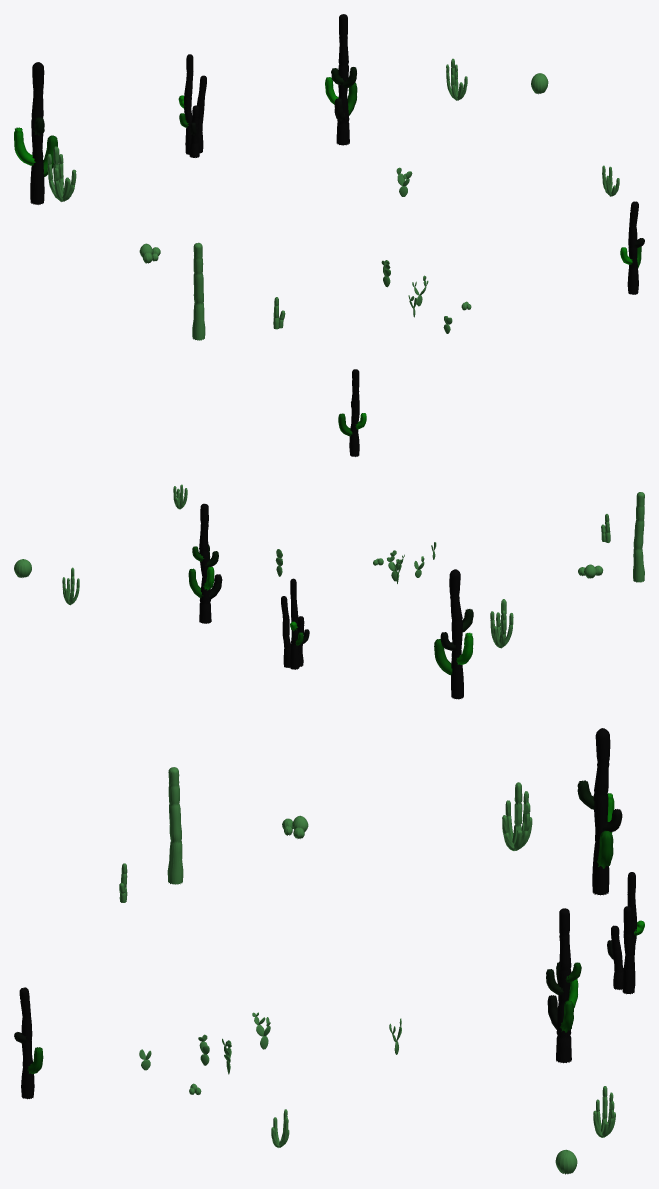
The model's file is cactuses.fbx.
3 views of the same model, one above another, from view 1: azimuth 30°, elevation 25°; view 2: azimuth 150°, elevation 25°; view 3: azimuth 270°, elevation 25° (orthographic). The views are drawn at different scales.
Visible parts, largest first — view 1: Cactus, Cactus13, Cactus2, Cactus15, Cactus16, Cactus11, Cactus5; view 2: Cactus, Cactus13, Cactus2, Cactus15, Cactus16, Cactus11; view 3: Cactus, Cactus13, Cactus2, Cactus15, Cactus16, Cactus11, Cactus5.
Part boxes in pixels (left/top/right/bottom): Cactus: left=14, top=62, right=57, bottom=204; Cactus13: left=325, top=14, right=357, bottom=145; Cactus2: left=178, top=54, right=206, bottom=157; Cactus15: left=620, top=201, right=644, bottom=294; Cactus16: left=192, top=242, right=205, bottom=340; Cactus11: left=47, top=146, right=76, bottom=201; Cactus5: left=446, top=58, right=467, bottom=100; Cactus: left=434, top=569, right=473, bottom=699; Cactus13: left=188, top=503, right=222, bottom=623; Cactus2: left=281, top=578, right=309, bottom=669; Cactus15: left=338, top=369, right=366, bottom=456; Cactus16: left=633, top=492, right=644, bottom=582; Cactus11: left=490, top=599, right=513, bottom=648; Cactus: left=577, top=728, right=622, bottom=895; Cactus13: left=546, top=908, right=581, bottom=1063; Cactus2: left=607, top=872, right=644, bottom=994; Cactus15: left=14, top=987, right=43, bottom=1099; Cactus16: left=167, top=767, right=183, bottom=884; Cactus11: left=502, top=782, right=532, bottom=850; Cactus5: left=593, top=1086, right=615, bottom=1137.
Bounding box in the file's own units: 11.11 × 3.73 × 9.82.
